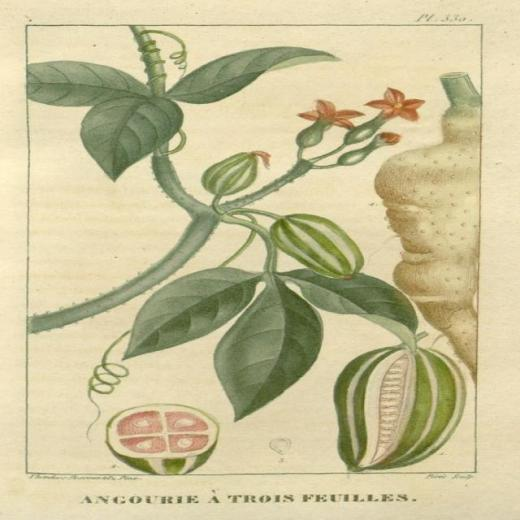Cherry: (333, 332, 462, 476), (107, 402, 216, 476)
